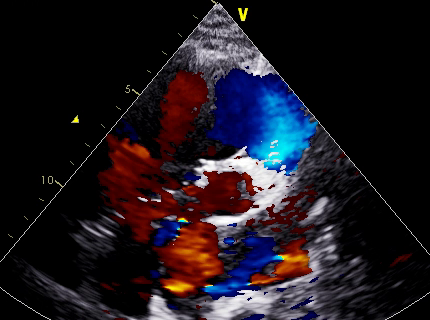TR: (139, 160, 214, 252)
